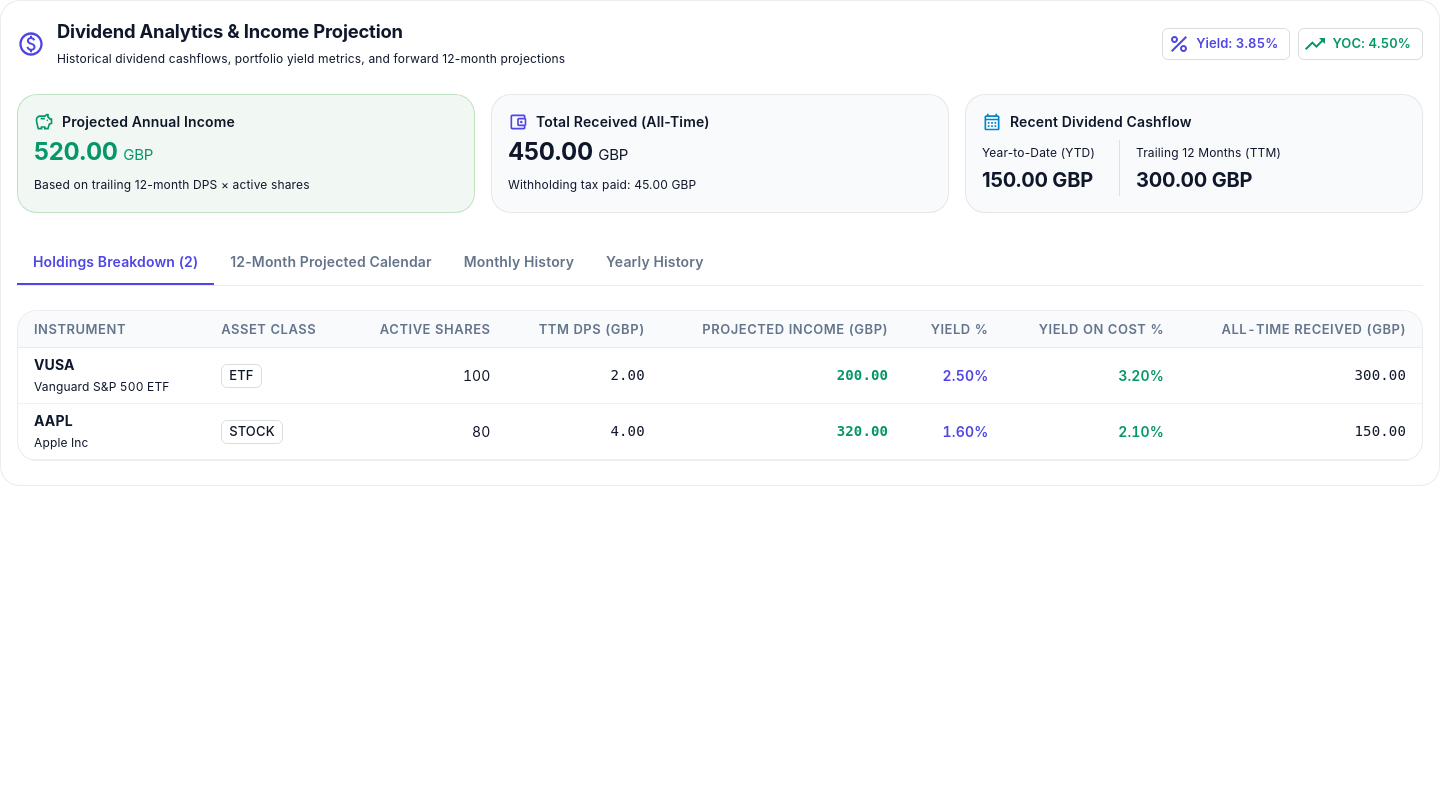
Test: DividendAnalyticsCard Component › switches between tabs (Calendar, Monthly, Yearly)
Expected: the heading "Dividend Analytics & Income Projection" is shown, [57, 20, 403, 42]
Click the tab "12-Month Projected Calendar": (331, 262) [214, 238, 448, 286]
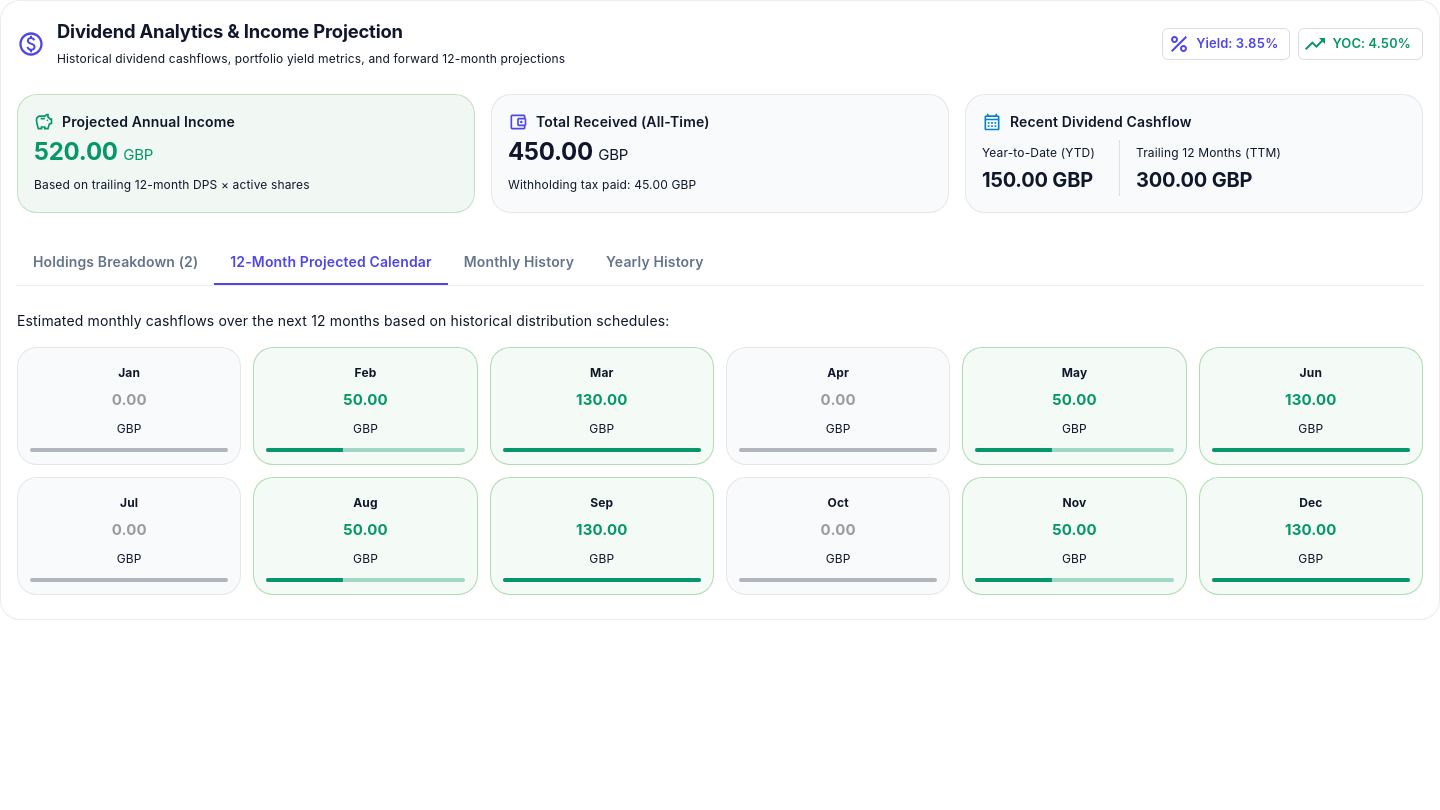
Expected: the text "Estimated monthly cashflows over the next 12 months" is shown, [17, 312, 669, 330]
Click the tab "Monthly History": (519, 262) [448, 238, 590, 286]
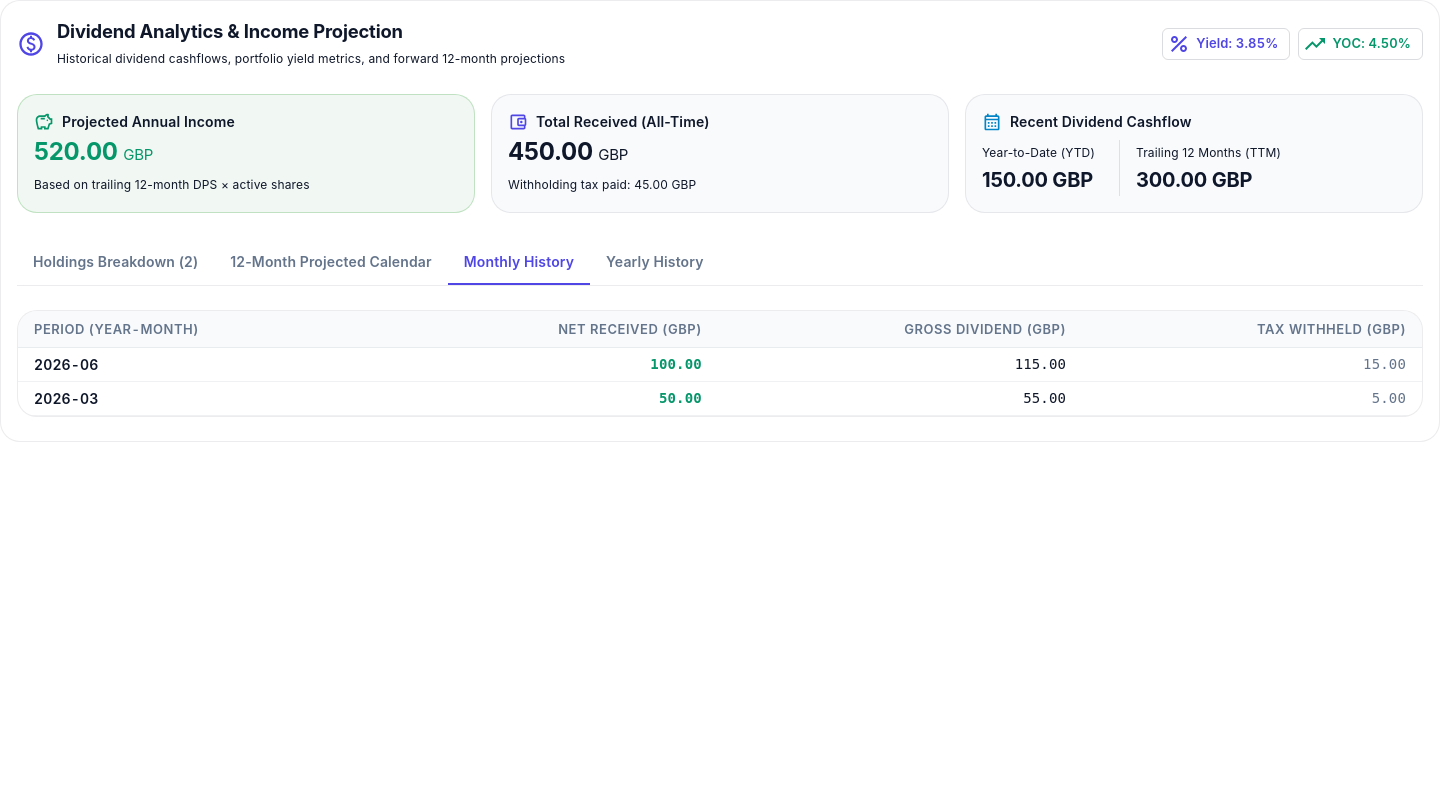
Expected: the text "2026-06" is shown, [18, 348, 388, 382]
Click the tab "Yearly History": (655, 262) [590, 238, 720, 286]
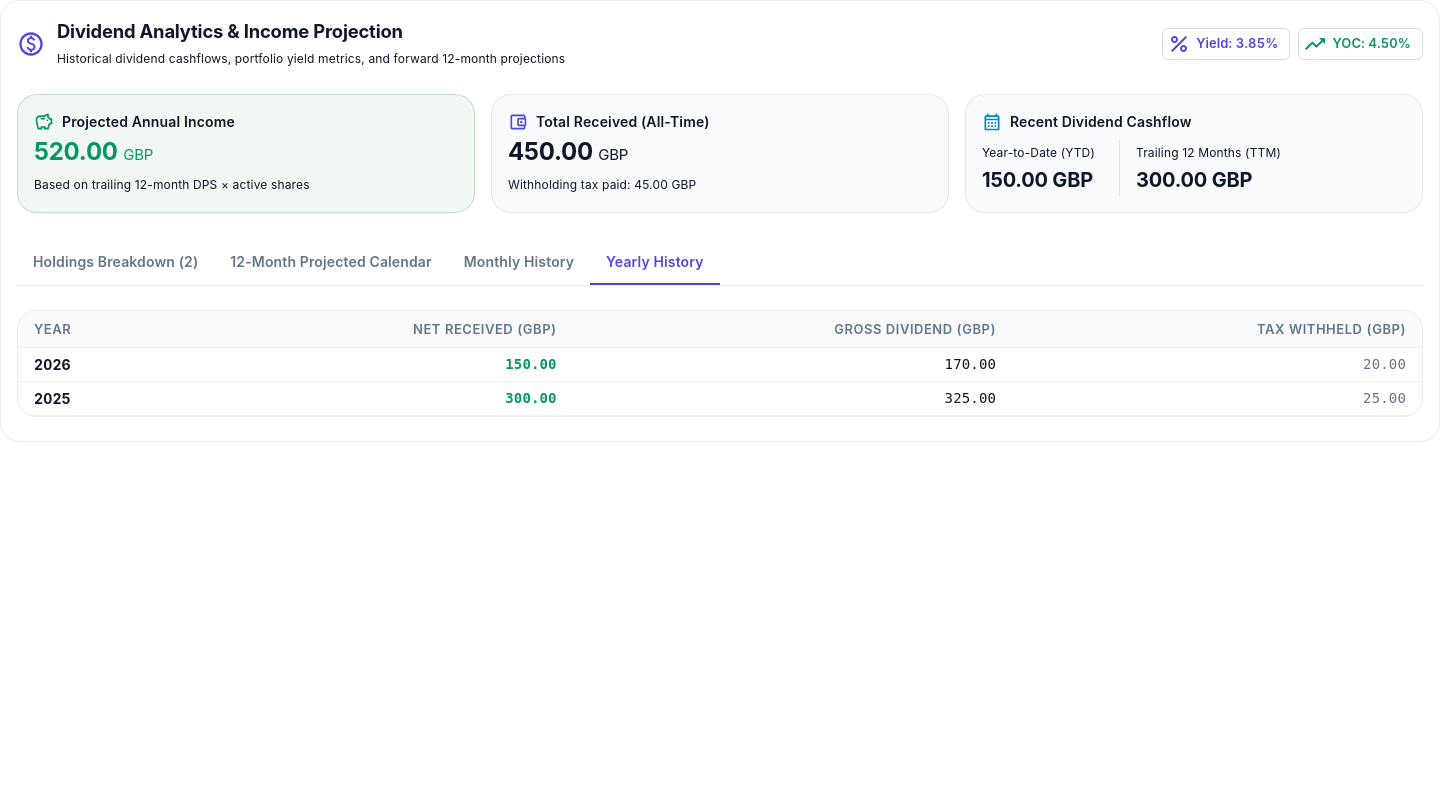
Expected: the text "2025" is shown, [18, 382, 175, 416]
